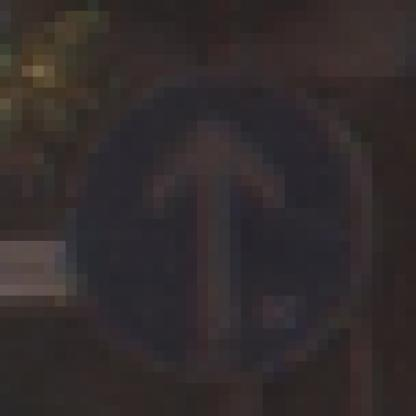AheadOnly: (67, 67, 351, 351)
